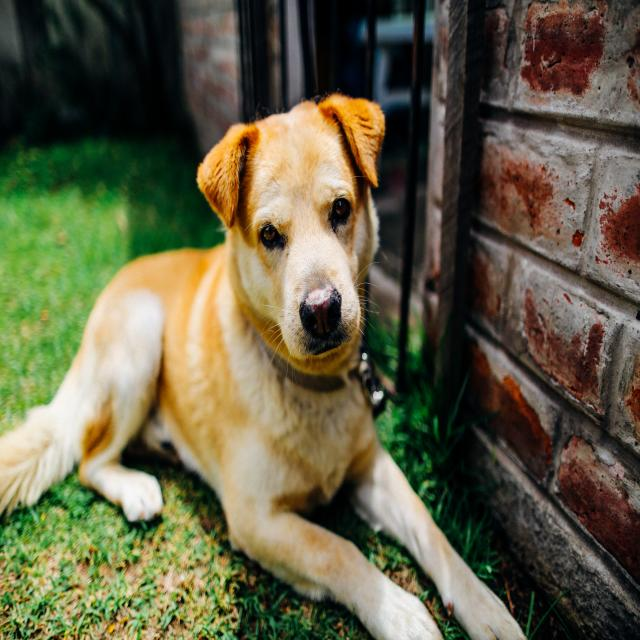laying down: (0, 88, 528, 639)
